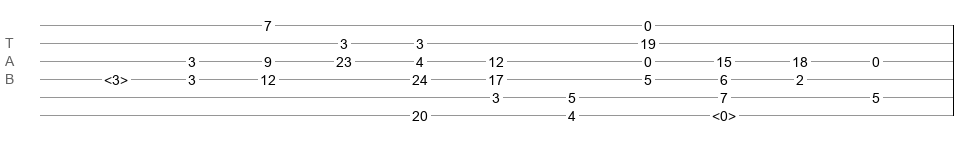0: (644, 18, 652, 28), (644, 54, 652, 64), (872, 54, 880, 64)
12: (260, 72, 276, 82), (488, 54, 504, 64)
15: (716, 54, 732, 64)
17: (488, 72, 504, 82)
18: (792, 54, 808, 64)
19: (640, 36, 656, 46)
2: (796, 72, 804, 82)
20: (412, 108, 428, 118)
23: (336, 54, 352, 64)
24: (412, 72, 428, 82)
3: (188, 54, 196, 64), (188, 72, 196, 82), (340, 36, 348, 46), (416, 36, 424, 46), (492, 90, 500, 100)
4: (416, 54, 424, 64), (568, 108, 576, 118)
5: (568, 90, 576, 100), (644, 72, 652, 82), (872, 90, 880, 100)
6: (720, 72, 728, 82)
7: (264, 18, 272, 28), (720, 90, 728, 100)
9: (264, 54, 272, 64)
harmonic: (104, 72, 128, 82), (712, 108, 736, 118)
